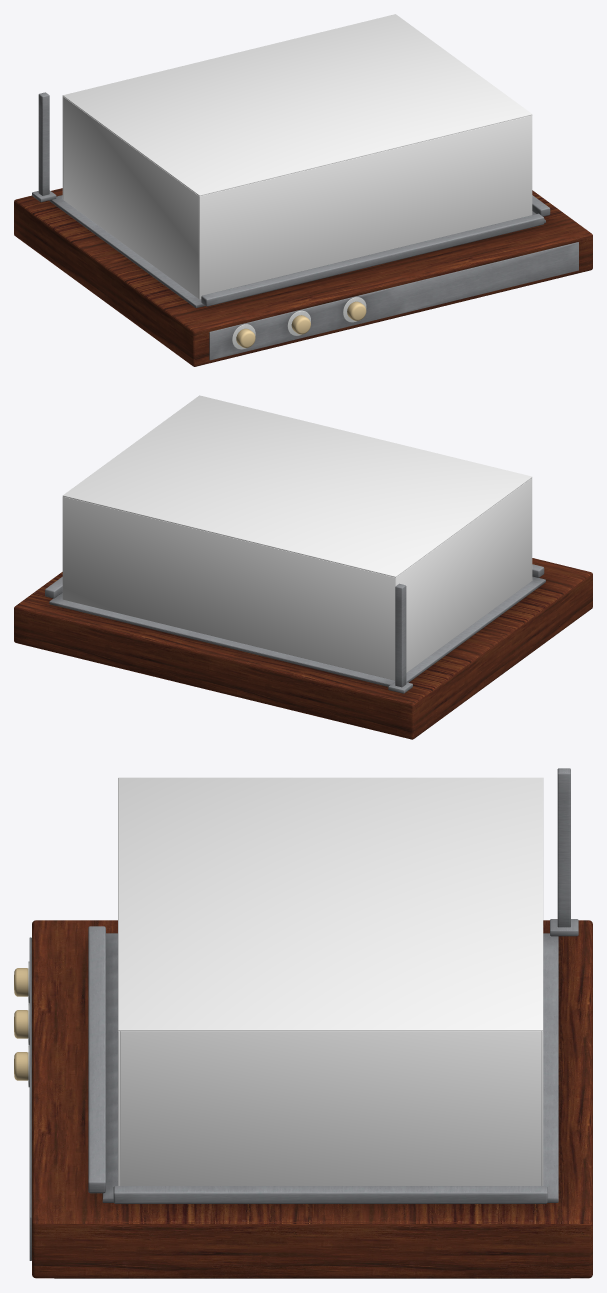
Rendered from qvr-instrument.glb.
3 views of the same model, one above another, from view 1: azimuth 30°, elevation 25°; view 2: azimuth 150°, elevation 25°; view 3: azimuth 270°, elevation 25° (orthographic). The views are drawn at different scales.
Visible parts, largest first — view 1: vitrine, plinth, fascia, rail_strike, deck, post_vol; view 2: vitrine, plinth, deck, post_vol; view 3: vitrine, plinth, rail_maturity, deck, rail_strike, post_vol, fascia.
Boxes of the visible parts, x1,y1,x2,y2 form: vitrine: [62, 14, 532, 299]; plinth: [14, 188, 592, 366]; fascia: [209, 242, 578, 360]; rail_strike: [201, 213, 544, 306]; deck: [49, 195, 545, 308]; post_vol: [32, 92, 56, 202]; vitrine: [62, 395, 532, 680]; plinth: [14, 558, 592, 739]; deck: [49, 576, 545, 686]; post_vol: [388, 583, 412, 693]; vitrine: [118, 777, 543, 1185]; plinth: [32, 920, 592, 1278]; rail_maturity: [113, 1186, 547, 1203]; deck: [102, 933, 558, 1202]; rail_strike: [88, 926, 105, 1193]; post_vol: [550, 768, 578, 936]; fascia: [29, 937, 31, 1260].
Size of the model in its own units: 6.5 by 2.65 by 5.24.
Materials: 6 (3 with a texture image).
